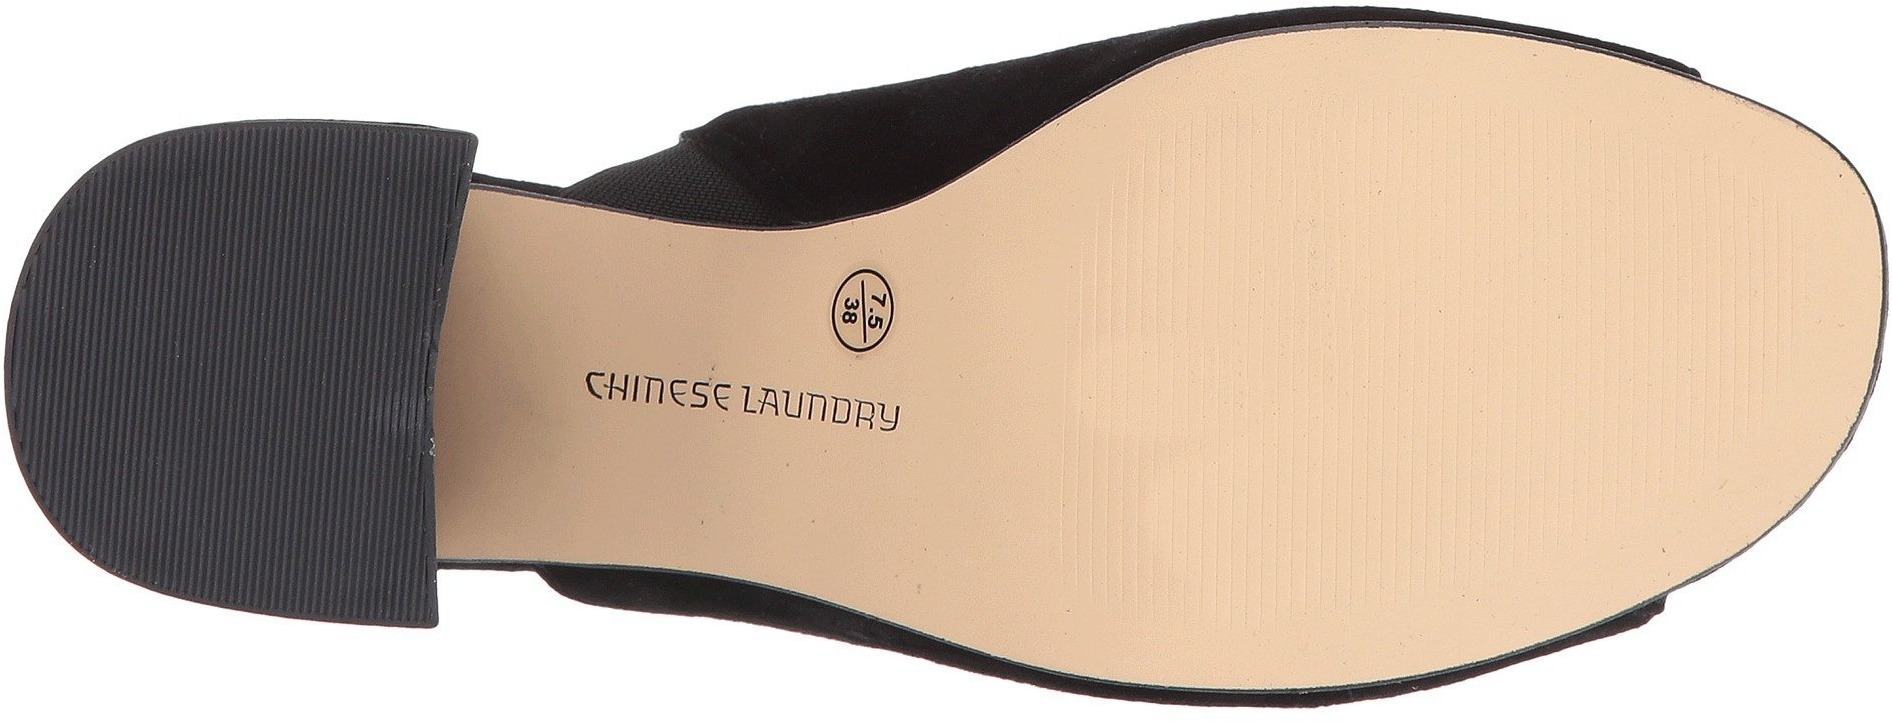circle: (825, 252, 919, 354)
other: (1138, 150, 1607, 584), (58, 221, 334, 523), (1618, 187, 1808, 391)
text: (689, 344, 836, 489), (808, 383, 911, 495), (573, 354, 682, 456), (825, 252, 919, 354)
